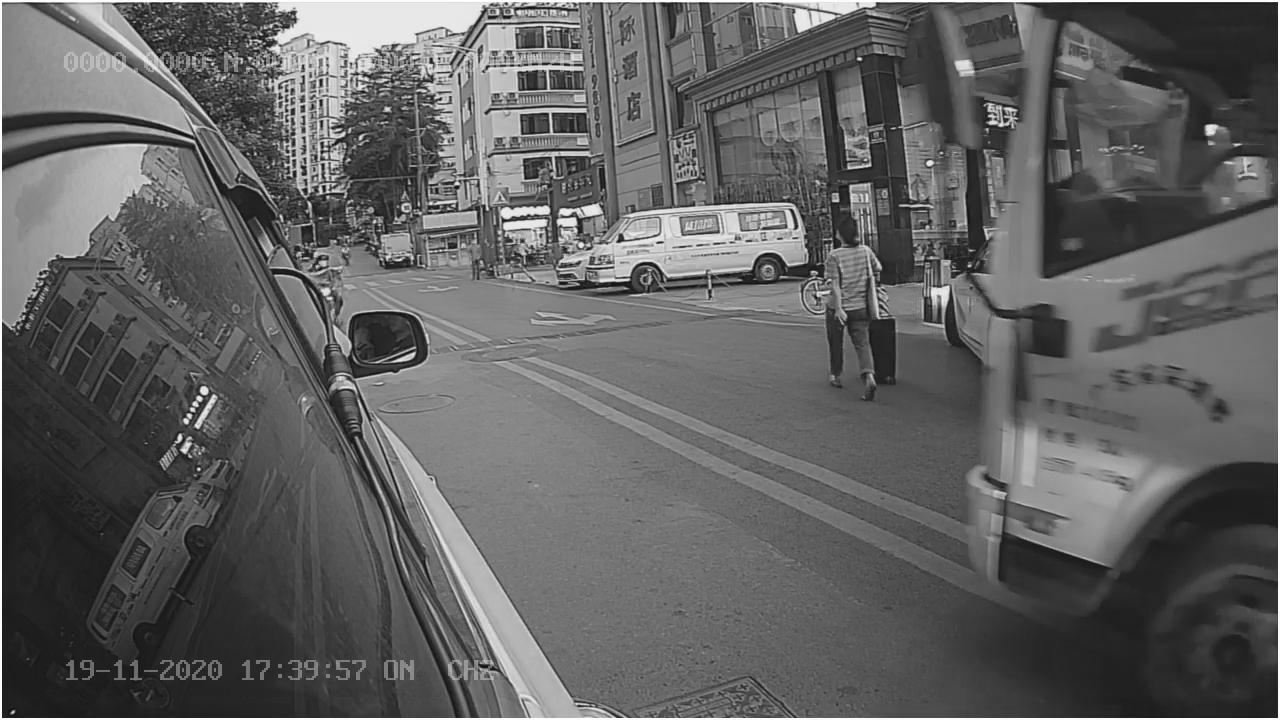person: (815, 211, 892, 401)
